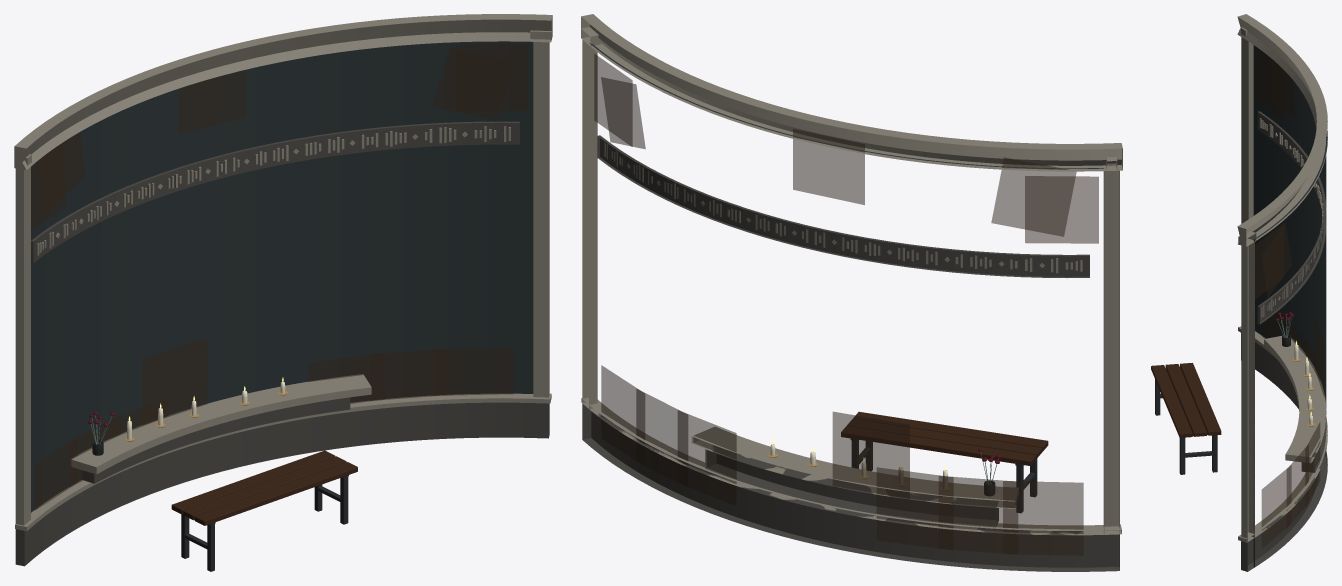
File: ch3_dress_memorial.glb
3 views of the same model, side by side, from view 1: azimuth 30°, elevation 25°; view 2: azimuth 150°, elevation 25°; view 3: azimuth 270°, elevation 25° (orthographic). The views are drawn at different scales.
Visible parts, largest first — view 1: ch3_dress_memorial; view 2: ch3_dress_memorial; view 3: ch3_dress_memorial.
Part boxes in pixels (box(x1,y1,x2,y2)): ch3_dress_memorial: box(14, 14, 552, 571); ch3_dress_memorial: box(581, 14, 1122, 571); ch3_dress_memorial: box(1151, 14, 1327, 571).
Size of the model in its own units: 4.65 by 3.46 by 1.61.
